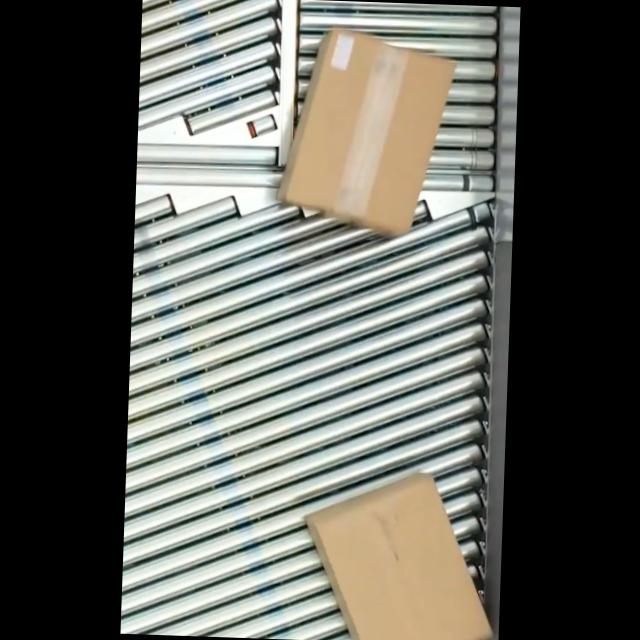box: (272, 27, 453, 240), (298, 467, 501, 640)
